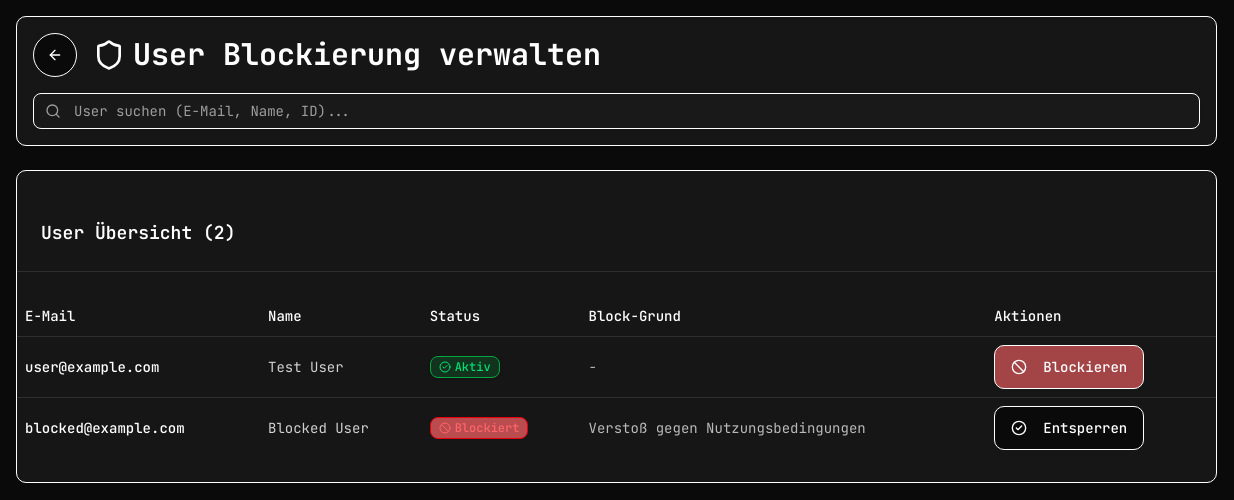
Test case: UserBlockManagement › Search Functionality › sollte User nach E-Mail filtern
Step 1. Type "blocked" into the field with placeholder "User suchen (E-Mail, Name, ID)..." → (616, 111), box [33,93,1200,129]
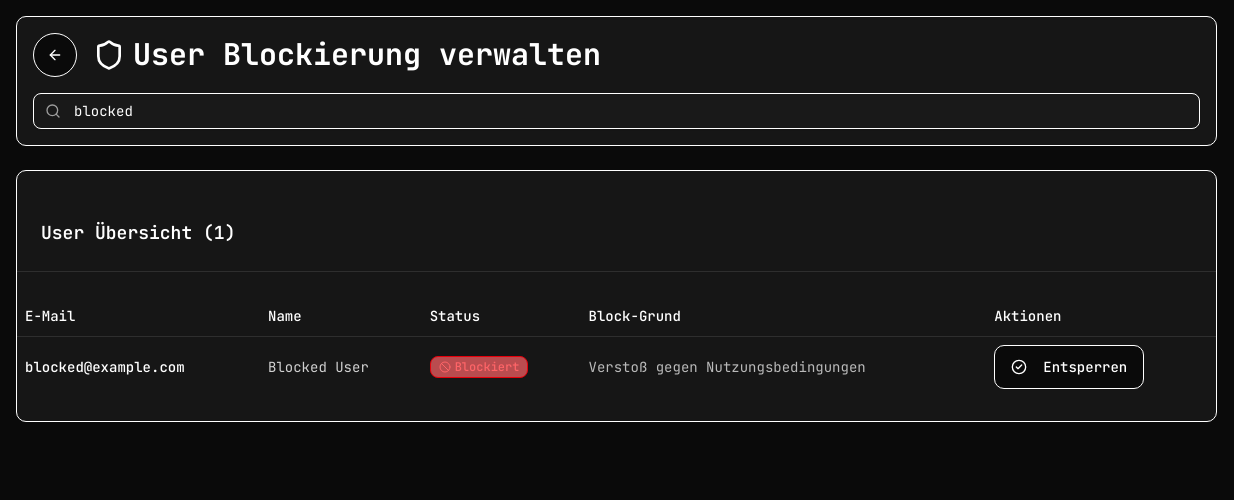
Result: the text "user@example.com" is gone
